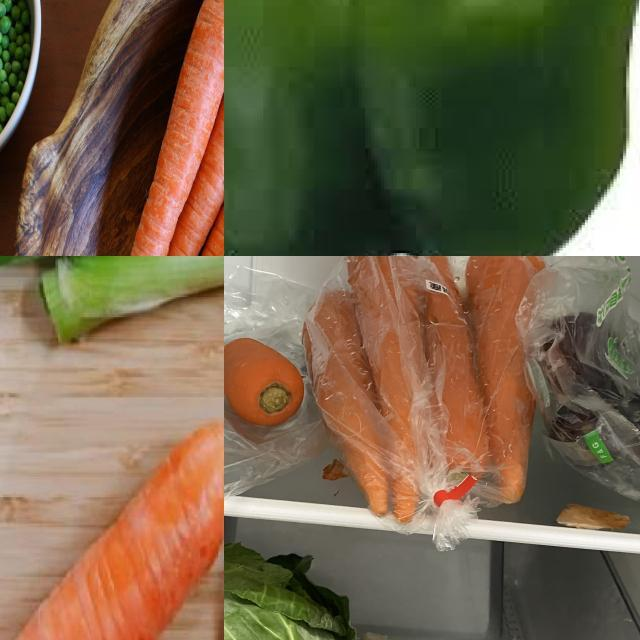bell_pepper: (225, 1, 640, 257)
cabbage: (225, 535, 358, 640)
carrot: (1, 416, 225, 640), (346, 257, 429, 524), (463, 257, 551, 508), (304, 289, 390, 521), (423, 257, 492, 483), (225, 337, 305, 432), (186, 1, 225, 148)
eggplant: (539, 307, 621, 449), (615, 394, 640, 486)
